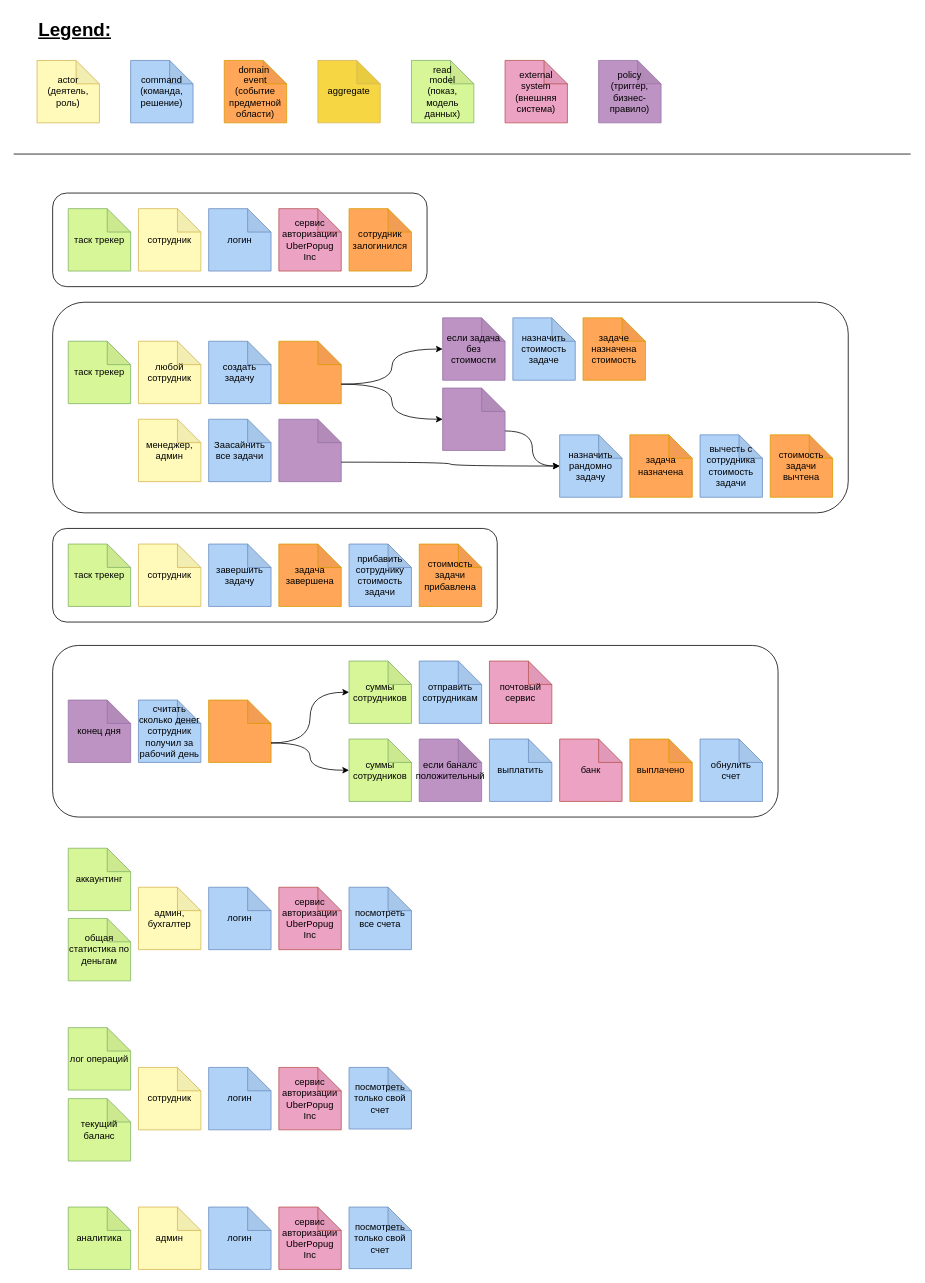
The diagram is 925 pixels wide and 1283 high, and some of its shapes have lost their labels. The box of each missing label's shape, as (x1, y1, x2, y2) in pixels:
для всех открытых задач: (278, 418, 341, 482)
если задача не назначена: (442, 387, 505, 450)
создана задача: (278, 340, 341, 404)
суммы посчитаны: (208, 699, 271, 762)
